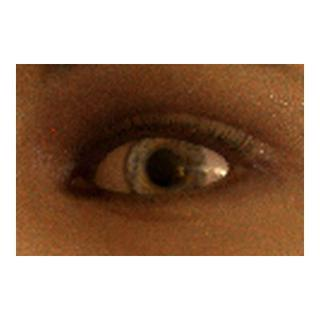pupil: (147, 149, 184, 187)
